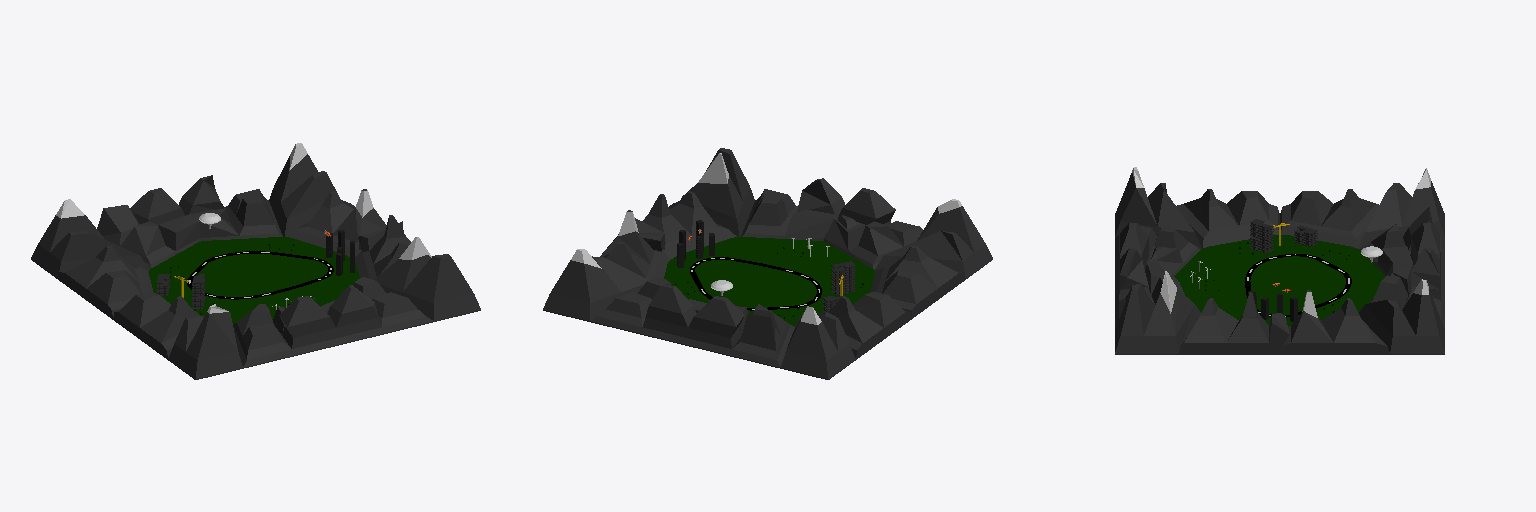
File: rotating-background.obj
3 views of the same model, side by side, from view 1: azimuth 30°, elevation 25°; view 2: azimuth 150°, elevation 25°; view 3: azimuth 270°, elevation 25° (orthographic).
Parts seen in each view (by area): view 1: Mountains_Cube.006, Cylinder_Cylinder.001, Cube.016_Cube.017; view 2: Mountains_Cube.006, Cylinder_Cylinder.001, Cube.016_Cube.017; view 3: Mountains_Cube.006, Cylinder_Cylinder.001, Cube.016_Cube.017.
Boxes of the visible parts, <box> form: Mountains_Cube.006: <box>31,143,480,379</box>; Cylinder_Cylinder.001: <box>148,237,359,323</box>; Cube.016_Cube.017: <box>187,251,333,299</box>; Mountains_Cube.006: <box>543,148,992,379</box>; Cylinder_Cylinder.001: <box>664,237,875,326</box>; Cube.016_Cube.017: <box>690,257,821,310</box>; Mountains_Cube.006: <box>1115,167,1444,354</box>; Cylinder_Cylinder.001: <box>1174,235,1385,326</box>; Cube.016_Cube.017: <box>1245,254,1351,317</box>.
Bounding box in the file's own units: 600 × 142 × 600.